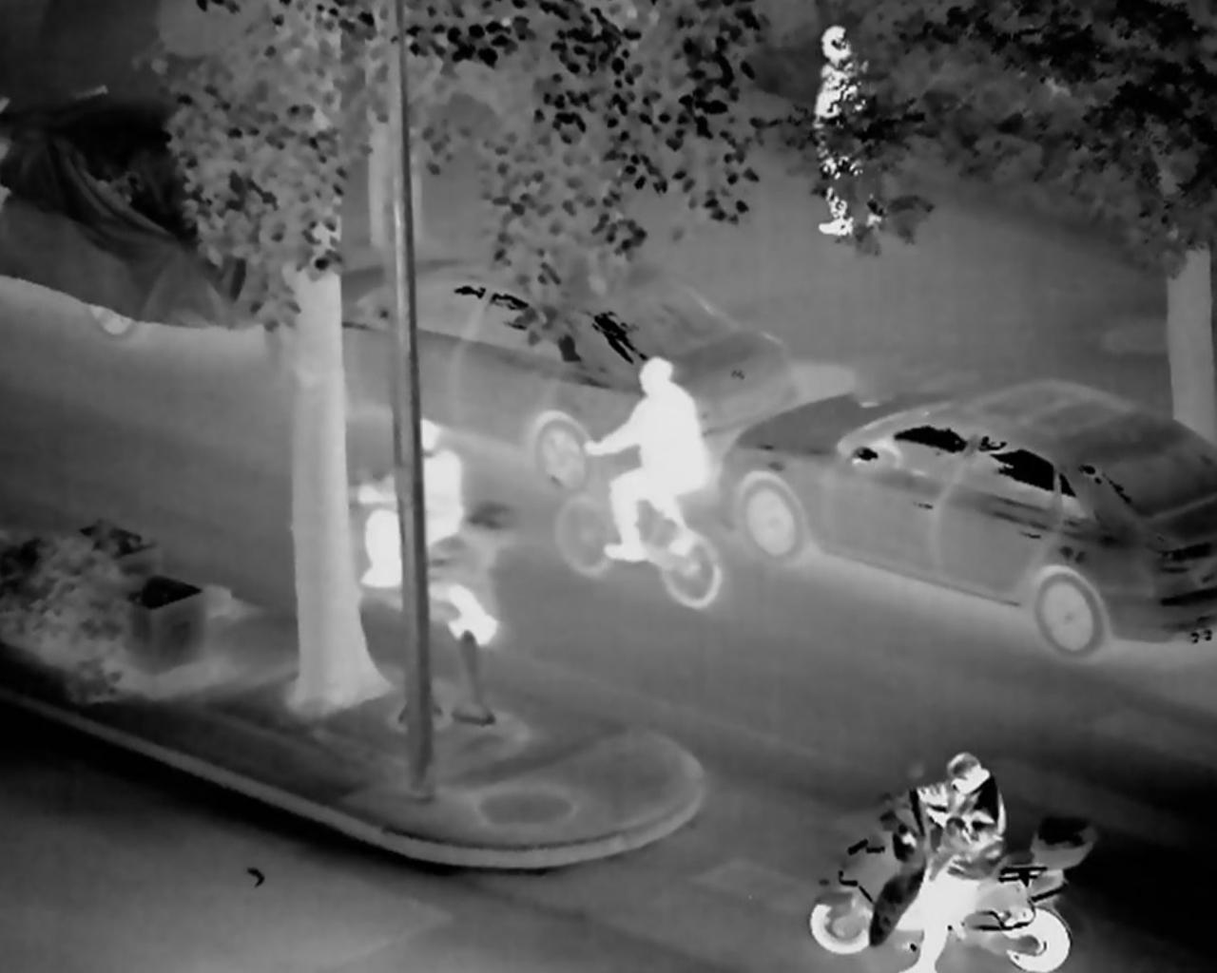person: (586, 345, 727, 582), (873, 740, 1010, 973), (800, 24, 899, 250), (354, 413, 468, 596)
